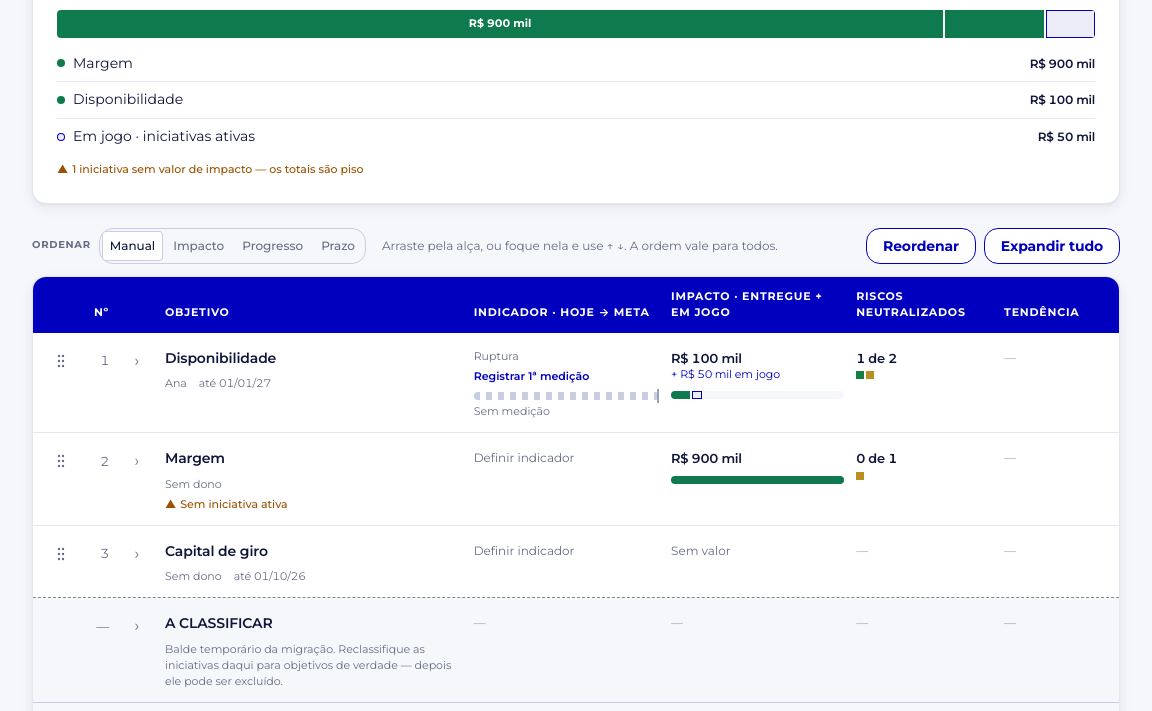
Test case: abre recolhido e o chevron expande o detalhe
(page scrolled)
Click the button named "Detalhe de Disponibilidade".
click(137, 361)  # box x1=121 y1=345 x2=153 y2=377
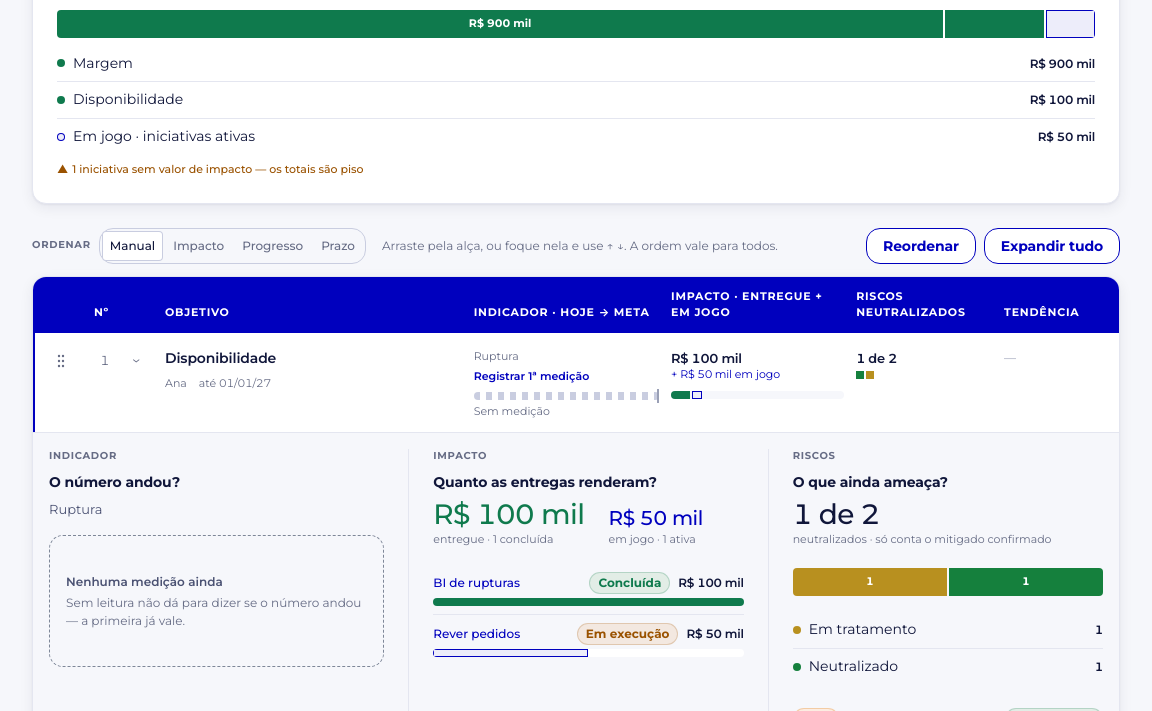
Now the heading "O número andou?" is shown, box x1=49 y1=473 x2=180 y2=491
Now the heading "Quanto as entregas renderam?" is shown, box x1=433 y1=473 x2=657 y2=491
Now the heading "O que ainda ameaça?" is shown, box x1=793 y1=473 x2=948 y2=491
